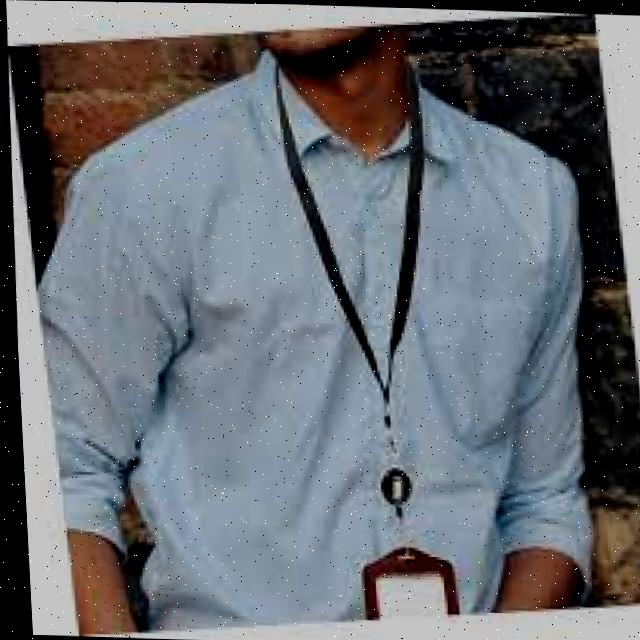id_card: (253, 71, 477, 614)
